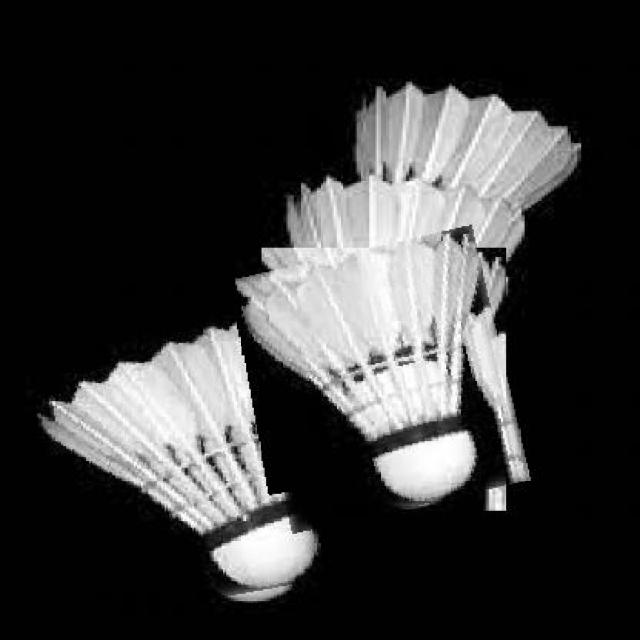Shuttlecock: (36, 313, 314, 586), (242, 233, 478, 498)
